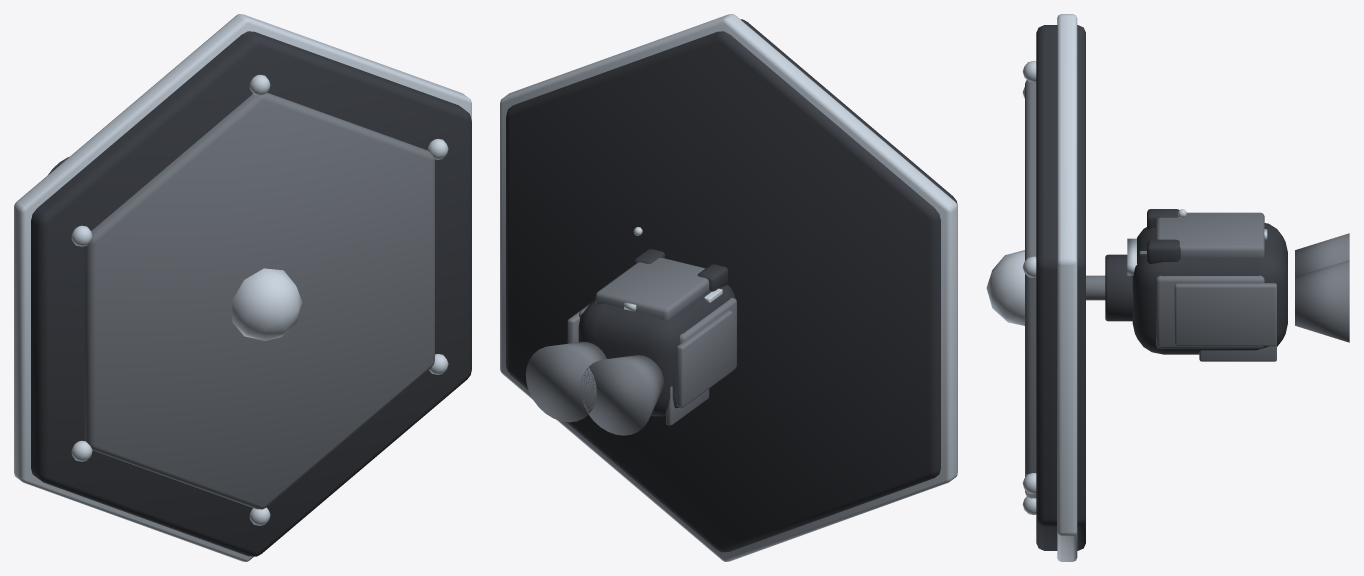
The model's file is weapon_drone_phase_field.glb.
The picture shows the model from 3 angles, left to right: view 1: azimuth 30°, elevation 25°; view 2: azimuth 150°, elevation 25°; view 3: azimuth 270°, elevation 25°; orthographic projection.
Parts seen in each view (by area): view 1: weapon_drone_phase_field; view 2: weapon_drone_phase_field; view 3: weapon_drone_phase_field.
Part boxes in pixels (left/top/right/bottom): weapon_drone_phase_field: left=14, top=14, right=471, bottom=561; weapon_drone_phase_field: left=500, top=14, right=957, bottom=561; weapon_drone_phase_field: left=986, top=14, right=1349, bottom=561.
Bounding box in the file's own units: 2.5 × 2.87 × 1.73.
